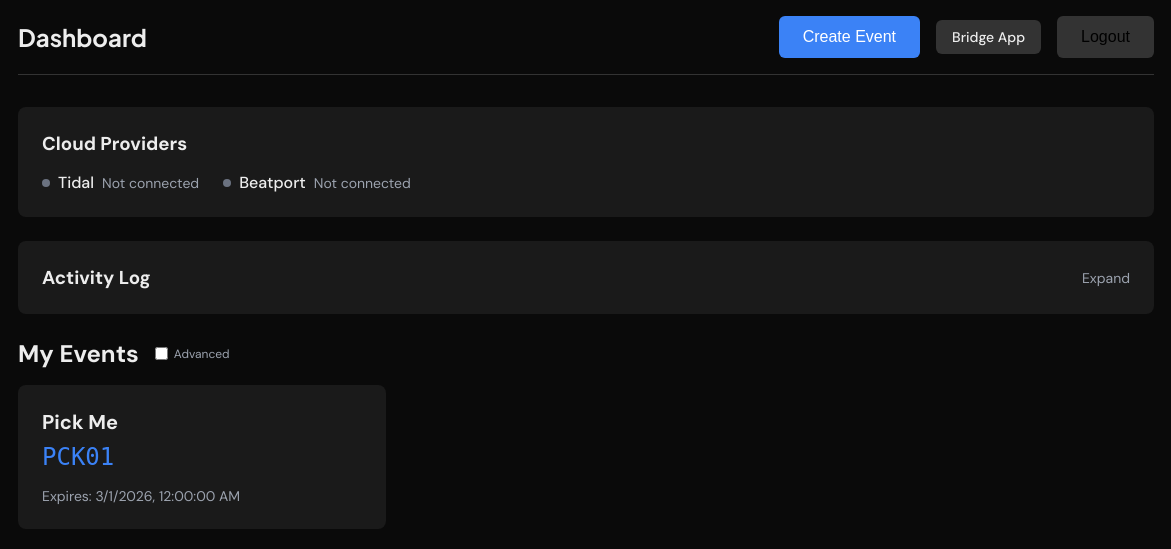
Scenario: DashboardPage › selects individual event in selection mode
The image size is (1171, 549).
Expected: the heading "Pick Me" is shown, 42,409 -> 118,435
Step 1. Click the checkbox labelled "Advanced" → point(161, 354), box 155,347 -> 168,360
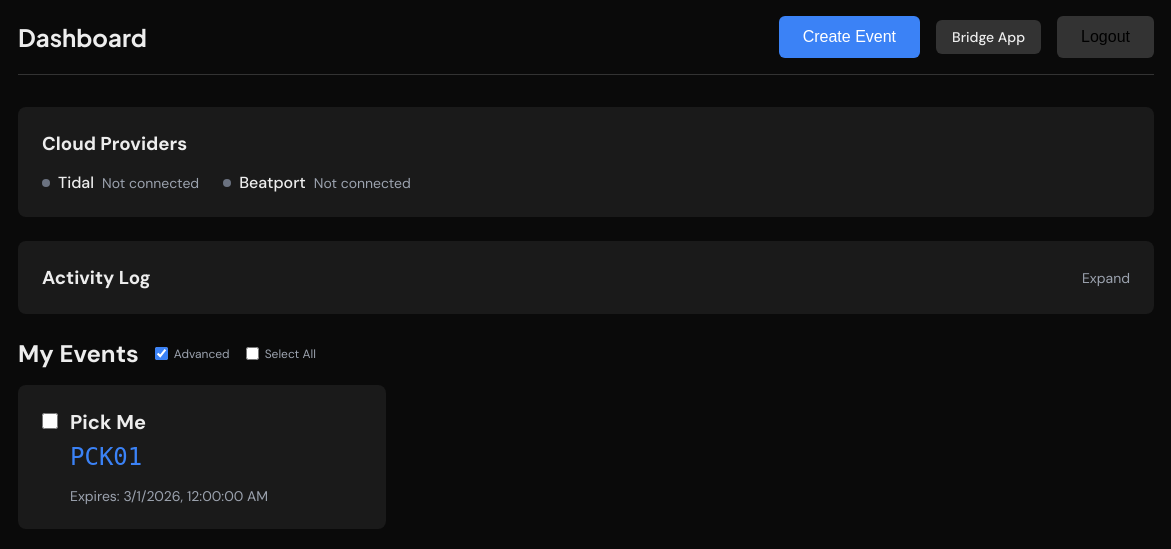
Step 2. Click the checkbox named "Select event PCK01" → point(50, 421), box 42,413 -> 58,429
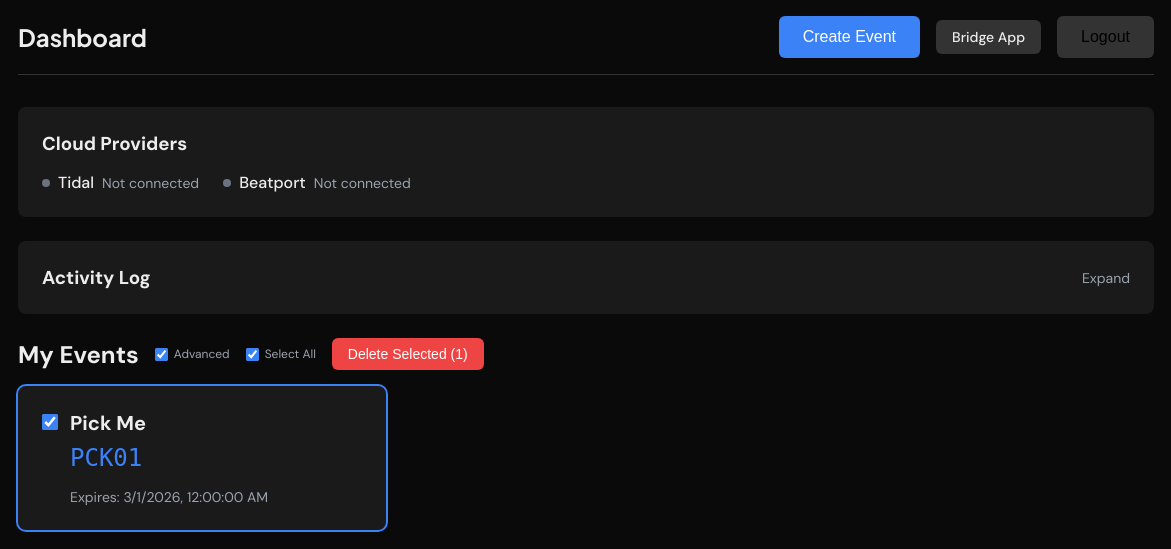
Expected: the button "Delete Selected (1)" is shown, 332,338 -> 484,370
